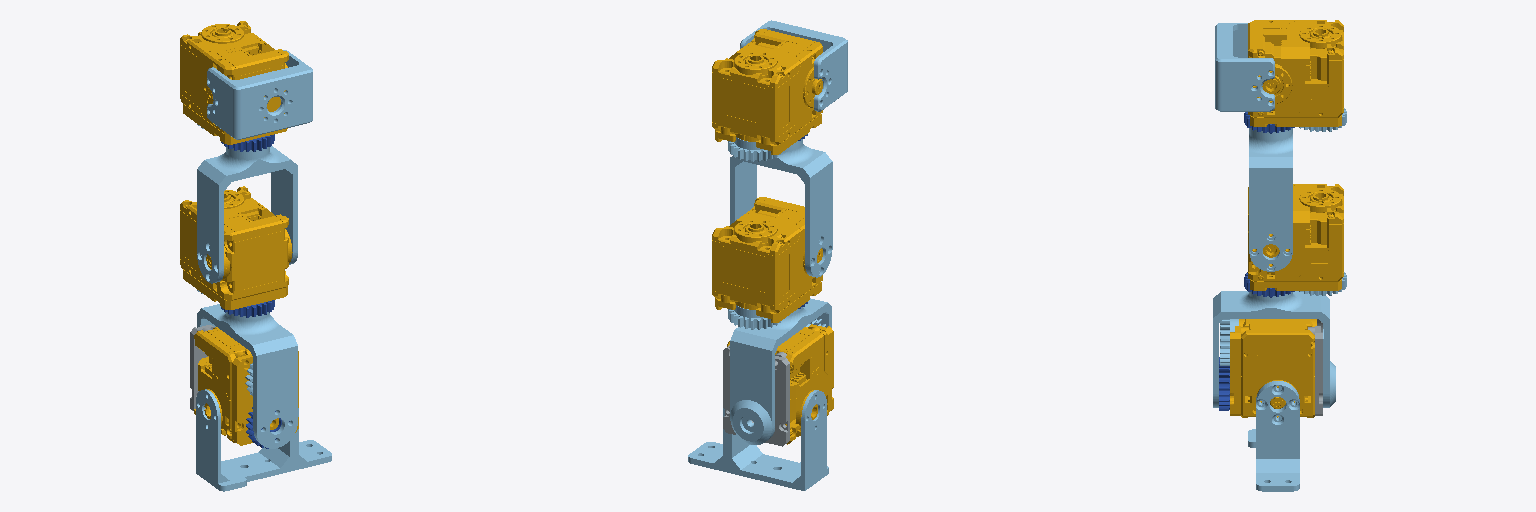
--- Facts derived from the render (not from the file) ---
3 views of the same robot in one strip: view 1: azimuth 30°, elevation 25°; view 2: azimuth 150°, elevation 25°; view 3: azimuth 270°, elevation 25° (orthographic).
Robot: left_arm — 16 links, 15 joints (10 revolute, 5 fixed); root link xc430; default pose: all joints at 0.
Links seen in each view (by area): view 1: 2xl430_gears_2, elb_yaw_link, sho_yaw_link, 2xl430_gears, sho_pitch_link, gripper_connector, 2xl430_gears_3, wrist_bearing_plate; view 2: 2xl430_gears, 2xl430_gears_2, elb_yaw_link, sho_yaw_link, gripper_connector, 2xl430_gears_3, sho_pitch_link, wrist_bearing_plate, spur_1m_24t_drive, spur_1m_24t_drive_2; view 3: 2xl430_gears, 2xl430_gears_3, 2xl430_gears_2, sho_yaw_link, gripper_connector, elb_yaw_link, sho_pitch_link, wrist_bearing_plate, spur_1m_24t_drive_3.
Boxes of the visible links, box(x1,y1,x2,y2) form: 2xl430_gears_2: box(180, 186, 292, 309); elb_yaw_link: box(197, 304, 297, 448); sho_yaw_link: box(197, 146, 297, 283); 2xl430_gears: box(180, 21, 288, 144); sho_pitch_link: box(207, 50, 312, 139); gripper_connector: box(196, 389, 331, 491); 2xl430_gears_3: box(194, 327, 298, 445); wrist_bearing_plate: box(190, 325, 214, 410); 2xl430_gears: box(712, 29, 822, 154); 2xl430_gears_2: box(712, 197, 822, 322); elb_yaw_link: box(730, 298, 831, 444); sho_yaw_link: box(730, 139, 832, 277); gripper_connector: box(688, 390, 828, 490); 2xl430_gears_3: box(727, 324, 833, 444); sho_pitch_link: box(740, 20, 847, 111); wrist_bearing_plate: box(723, 345, 789, 446); spur_1m_24t_drive: box(728, 137, 780, 161); spur_1m_24t_drive_2: box(728, 305, 780, 329); 2xl430_gears: box(1248, 20, 1343, 126); 2xl430_gears_3: box(1230, 319, 1316, 417); 2xl430_gears_2: box(1248, 184, 1343, 290); sho_yaw_link: box(1249, 128, 1292, 271); gripper_connector: box(1248, 381, 1299, 491); elb_yaw_link: box(1213, 291, 1335, 407); sho_pitch_link: box(1215, 23, 1274, 111); wrist_bearing_plate: box(1308, 319, 1322, 415); spur_1m_24t_drive_3: box(1220, 319, 1238, 365).
Size in the robot's own frame: 0.066 by 0.0652 by 0.2252 metres.
Meshes: 16 distinct files referenced, 14 mesh visuals loaded (14 binary STL); not drawn: 2 (reference not matched to a file when rendering).

The robot description file, URDF, robot "left_arm":
<?xml version="1.0" ?><robot name="left_arm">  
  <link name="xc430">    
    <visual>      
      <origin xyz="0 0 0" rpy="0 -0 0"/>      
      <geometry>        
        <mesh filename="package:///meshes/left_xc430_visual.stl"/>        
      </geometry>      
      <material name="xc430_material">        
        <color rgba="0.3960334863748344314 0.50878377002232877402 0.71126755432153676573 1.0"/>        
      </material>      
    </visual>    
    <collision>      
      <origin xyz="0 0 0" rpy="0 -0 0"/>      
      <geometry>        
        <mesh filename="package:///meshes/left_xc430_collision.stl"/>        
      </geometry>      
    </collision>    
    <inertial>      
      <origin xyz="0.007649938948420367639 -0.0056800345415021161882 -0.014255781343936730146" rpy="0 0 0"/>      
      <mass value="0.065021926915724281848"/>      
      <inertia ixx="1.0685477757330408185e-05" ixy="2.4991048730003623443e-08" ixz="-4.3793050176056901397e-09" iyy="1.6030858372951694338e-05" iyz="-9.5846760480286561493e-09" izz="1.8186829094811185627e-05"/>      
    </inertial>    
  </link>  

  <link name="sho_pitch_link">    
    <visual>      
      <origin xyz="0 0 0" rpy="0 -0 0"/>      
      <geometry>        
        <mesh filename="package:///meshes/left_sho_pitch_link_visual.stl"/>        
      </geometry>      
      <material name="sho_pitch_link_material">        
        <color rgba="0.61568627450980395466 0.81176470588235294379 0.92941176470588238168 1.0"/>        
      </material>      
    </visual>    
    <collision>      
      <origin xyz="0 0 0" rpy="0 -0 0"/>      
      <geometry>        
        <mesh filename="package:///meshes/left_sho_pitch_link_collision.stl"/>        
      </geometry>      
    </collision>    
    <inertial>      
      <origin xyz="5.8254248120052071971e-11 -5.1264642561120891203e-05 0.0082440788127094884186" rpy="0 0 0"/>      
      <mass value="0.0054658167229830727923"/>      
      <inertia ixx="7.8001571192438926207e-07" ixy="-1.362001715498003601e-14" ixz="-5.4561052933656508776e-15" iyy="1.8499441886712514344e-06" iyz="4.7427934912491398702e-09" izz="1.9577243674425458058e-06"/>      
    </inertial>    
  </link>  

  <link name="2xl430_gears">    
    <visual>      
      <origin xyz="0 0 0" rpy="0 -0 0"/>      
      <geometry>        
        <mesh filename="package:///meshes/left_2xl430_gears_visual.stl"/>        
      </geometry>      
      <material name="2xl430_gears_material">        
        <color rgba="0.92986371788500021829 0.70481290401000895596 0.1039417481935485249 1.0"/>        
      </material>      
    </visual>    
    <collision>      
      <origin xyz="0 0 0" rpy="0 -0 0"/>      
      <geometry>        
        <mesh filename="package:///meshes/left_2xl430_gears_collision.stl"/>        
      </geometry>      
    </collision>    
    <inertial>      
      <origin xyz="-0.01169099042949864678 -0.0018640254999320031871 -0.018537112917890789104" rpy="0 0 0"/>      
      <mass value="0.10501969455283197141"/>      
      <inertia ixx="2.3730855574653463973e-05" ixy="6.3698299422680390943e-07" ixz="-2.6196591648175582968e-08" iyy="2.9185546824402445624e-05" iyz="-5.7586555809654170624e-07" izz="3.1247581181374436705e-05"/>      
    </inertial>    
  </link>  

  <link name="spur_1m_24t_drive">    
    <visual>      
      <origin xyz="0 0 0" rpy="0 -0 0"/>      
      <geometry>        
        <mesh filename="package:///meshes/left_spur_1m_24t_drive_visual.stl"/>        
      </geometry>      
      <material name="spur_1m_24t_drive_material">        
        <color rgba="0.61568627450980395466 0.81176470588235294379 0.92941176470588238168 1.0"/>        
      </material>      
    </visual>    
    <collision>      
      <origin xyz="0 0 0" rpy="0 -0 0"/>      
      <geometry>        
        <mesh filename="package:///meshes/left_spur_1m_24t_drive_collision.stl"/>        
      </geometry>      
    </collision>    
    <inertial>      
      <origin xyz="-7.7519087863383936372e-15 -1.2153135340684706176e-16 0.0047949116178401442884" rpy="0 0 0"/>      
      <mass value="0.0028390468118397902894"/>      
      <inertia ixx="1.2437980613262772114e-07" ixy="1.4197372144770222767e-15" ixz="-1.5495887109503665114e-37" iyy="1.243798053716646504e-07" iyz="-4.8230046432124436823e-37" izz="2.1149940431738185887e-07"/>      
    </inertial>    
  </link>  

  <joint name="left_sho_yaw_drive" type="revolute">    
    <origin xyz="-0.024000000716149091917 -0.019000000152453261348 -0.019000000152451658464" rpy="1.5707963267948958919 -4.4976359533854379418e-14 2.4607735454933739048e-14"/>    
    <parent link="2xl430_gears"/>    
    <child link="spur_1m_24t_drive"/>    
    <axis xyz="0 0 1"/>    
    <limit effort="1" velocity="20" lower="-3.141592653589793116" upper="3.141592653589793116"/>    
    <joint_properties friction="0.0"/>    
  </joint>  

  <link name="spur_1m_24t_driven">    
    <visual>      
      <origin xyz="0 0 0" rpy="0 -0 0"/>      
      <geometry>        
        <mesh filename="package:///meshes/left_spur_1m_24t_driven_visual.stl"/>        
      </geometry>      
      <material name="spur_1m_24t_driven_material">        
        <color rgba="0.23137254901960788156 0.38039215686274507888 0.7058823529411765163 1.0"/>        
      </material>      
    </visual>    
    <collision>      
      <origin xyz="0 0 0" rpy="0 -0 0"/>      
      <geometry>        
        <mesh filename="package:///meshes/left_spur_1m_24t_driven_collision.stl"/>        
      </geometry>      
    </collision>    
    <inertial>      
      <origin xyz="-4.7580846418343935286e-18 -5.7993764787103834268e-15 -0.00096866348640038679729" rpy="0 0 0"/>      
      <mass value="0.0019107037020329885237"/>      
      <inertia ixx="8.5107987555388190322e-08" ixy="-3.6559376044217627684e-37" ixz="0" iyy="8.5107987555388057973e-08" iyz="0" izz="1.61541204276871012e-07"/>      
    </inertial>    
  </link>  

  <link name="sho_yaw_link">    
    <visual>      
      <origin xyz="0 0 0" rpy="0 -0 0"/>      
      <geometry>        
        <mesh filename="package:///meshes/left_sho_yaw_link_visual.stl"/>        
      </geometry>      
      <material name="sho_yaw_link_material">        
        <color rgba="0.61568627450980395466 0.81176470588235294379 0.92941176470588238168 1.0"/>        
      </material>      
    </visual>    
    <collision>      
      <origin xyz="0 0 0" rpy="0 -0 0"/>      
      <geometry>        
        <mesh filename="package:///meshes/left_sho_yaw_link_collision.stl"/>        
      </geometry>      
    </collision>    
    <inertial>      
      <origin xyz="-1.2954272486096536888e-18 4.6931218992822002367e-18 -0.024214576156328396217" rpy="0 0 0"/>      
      <mass value="0.012515007486099719372"/>      
      <inertia ixx="7.8103015795623802274e-06" ixy="3.1069782961625653339e-13" ixz="0" iyy="4.8995994669684958124e-06" iyz="0" izz="3.8486326781559904804e-06"/>      
    </inertial>    
  </link>  

  <link name="2xl430_gears_2">    
    <visual>      
      <origin xyz="0 0 0" rpy="0 -0 0"/>      
      <geometry>        
        <mesh filename="package:///meshes/left_2xl430_gears_2_visual.stl"/>        
      </geometry>      
      <material name="2xl430_gears_2_material">        
        <color rgba="0.92986371788500021829 0.70481290401000895596 0.1039417481935485249 1.0"/>        
      </material>      
    </visual>    
    <collision>      
      <origin xyz="0 0 0" rpy="0 -0 0"/>      
      <geometry>        
        <mesh filename="package:///meshes/left_2xl430_gears_2_collision.stl"/>        
      </geometry>      
    </collision>    
    <inertial>      
      <origin xyz="-0.011690990429496775013 -0.0018640254999317382081 -0.018537112917886455765" rpy="0 0 0"/>      
      <mass value="0.10501969455283197141"/>      
      <inertia ixx="2.373085557465203757e-05" ixy="6.36982994226230574e-07" ixz="-2.6196591648377547386e-08" iyy="2.9185546824401300436e-05" iyz="-5.7586555809669438393e-07" izz="3.1247581181373433818e-05"/>      
    </inertial>    
  </link>  

  <link name="spur_1m_24t_drive_2">    
    <visual>      
      <origin xyz="0 0 0" rpy="0 -0 0"/>      
      <geometry>        
        <mesh filename="package:///meshes/left_spur_1m_24t_drive_2_visual.stl"/>        
      </geometry>      
      <material name="spur_1m_24t_drive_2_material">        
        <color rgba="0.61568627450980395466 0.81176470588235294379 0.92941176470588238168 1.0"/>        
      </material>      
    </visual>    
    <collision>      
      <origin xyz="0 0 0" rpy="0 -0 0"/>      
      <geometry>        
        <mesh filename="package:///meshes/left_spur_1m_24t_drive_2_collision.stl"/>        
      </geometry>      
    </collision>    
    <inertial>      
      <origin xyz="-7.7519087863383936372e-15 -1.2153135340684745619e-16 0.0047949116178401364821" rpy="0 0 0"/>      
      <mass value="0.0028390468118397902894"/>      
      <inertia ixx="1.2437980613262777408e-07" ixy="1.419737221362293343e-15" ixz="-1.3786460596123746092e-37" iyy="1.2437980537166470334e-07" iyz="-9.9920846415556119903e-38" izz="2.1149940431738196475e-07"/>      
    </inertial>    
  </link>  

  <joint name="left_elbow_yaw_drive" type="revolute">    
    <origin xyz="-0.024000000716143943258 -0.019000000152449458835 -0.019000000152448723312" rpy="1.5707963267948803487 -8.8097374115804582929e-15 1.2391989173894776153e-13"/>    
    <parent link="2xl430_gears_2"/>    
    <child link="spur_1m_24t_drive_2"/>    
    <axis xyz="0 0 1"/>    
    <limit effort="1" velocity="20" lower="-3.141592653589793116" upper="3.141592653589793116"/>    
    <joint_properties friction="0.0"/>    
  </joint>  

  <link name="spur_1m_24t_driven_2">    
    <visual>      
      <origin xyz="0 0 0" rpy="0 -0 0"/>      
      <geometry>        
        <mesh filename="package:///meshes/left_spur_1m_24t_driven_2_visual.stl"/>        
      </geometry>      
      <material name="spur_1m_24t_driven_2_material">        
        <color rgba="0.23137254901960788156 0.38039215686274507888 0.7058823529411765163 1.0"/>        
      </material>      
    </visual>    
    <collision>      
      <origin xyz="0 0 0" rpy="0 -0 0"/>      
      <geometry>        
        <mesh filename="package:///meshes/left_spur_1m_24t_driven_2_collision.stl"/>        
      </geometry>      
    </collision>    
    <inertial>      
      <origin xyz="-4.7580846418342417653e-18 -5.7993764787103826379e-15 -0.00096866348640036251116" rpy="0 0 0"/>      
      <mass value="0.0019107037020329885237"/>      
      <inertia ixx="8.5107987555388216792e-08" ixy="-1.6901296385098867282e-36" ixz="1.7653430435007051828e-36" iyy="8.5107987555388057973e-08" iyz="3.3761471308164658484e-36" izz="1.6154120427687106494e-07"/>      
    </inertial>    
  </link>  

  <link name="elb_yaw_link">    
    <visual>      
      <origin xyz="0 0 0" rpy="0 -0 0"/>      
      <geometry>        
        <mesh filename="package:///meshes/left_elb_yaw_link_visual.stl"/>        
      </geometry>      
      <material name="elb_yaw_link_material">        
        <color rgba="0.61568627450980406568 0.81176470588235294379 0.92941176470588238168 1.0"/>        
      </material>      
    </visual>    
    <collision>      
      <origin xyz="0 0 0" rpy="0 -0 0"/>      
      <geometry>        
        <mesh filename="package:///meshes/left_elb_yaw_link_collision.stl"/>        
      </geometry>      
    </collision>    
    <inertial>      
      <origin xyz="5.2870889172994923869e-08 0.001987355818274245782 -0.023365661199828750144" rpy="0 0 0"/>      
      <mass value="0.014606428020591945977"/>      
      <inertia ixx="1.17667756487469936e-05" ixy="1.4106312007994768316e-12" ixz="-9.3353217587898983128e-12" iyy="5.5393998892419725165e-06" iyz="8.8305528697668242434e-07" izz="7.4785865281022818806e-06"/>      
    </inertial>    
  </link>  

  <link name="spur_1m_24t_driven_3">    
    <visual>      
      <origin xyz="0 0 0" rpy="0 -0 0"/>      
      <geometry>        
        <mesh filename="package:///meshes/left_spur_1m_24t_driven_3_visual.stl"/>        
      </geometry>      
      <material name="spur_1m_24t_driven_3_material">        
        <color rgba="0.23137254901960788156 0.38039215686274507888 0.7058823529411765163 1.0"/>        
      </material>      
    </visual>    
    <collision>      
      <origin xyz="0 0 0" rpy="0 -0 0"/>      
      <geometry>        
        <mesh filename="package:///meshes/left_spur_1m_24t_driven_3_collision.stl"/>        
      </geometry>      
    </collision>    
    <inertial>      
      <origin xyz="-2.5574766353556168795e-17 -5.7993764787103834268e-15 -0.002568663486400384055" rpy="0 0 0"/>      
      <mass value="0.0019107037020329885237"/>      
      <inertia ixx="8.5107987555388190322e-08" ixy="5.7697031649781155731e-39" ixz="-3.0252491959815126819e-37" iyy="8.5107987555388057973e-08" iyz="3.5356000143236472845e-37" izz="1.61541204276871012e-07"/>      
    </inertial>    
  </link>  

  <link name="2xl430_gears_3">    
    <visual>      
      <origin xyz="0 0 0" rpy="0 -0 0"/>      
      <geometry>        
        <mesh filename="package:///meshes/left_2xl430_gears_3_visual.stl"/>        
      </geometry>      
      <material name="2xl430_gears_3_material">        
        <color rgba="0.92986371788500021829 0.70481290401000895596 0.1039417481935485249 1.0"/>        
      </material>      
    </visual>    
    <collision>      
      <origin xyz="0 0 0" rpy="0 -0 0"/>      
      <geometry>        
        <mesh filename="package:///meshes/left_2xl430_gears_3_collision.stl"/>        
      </geometry>      
    </collision>    
    <inertial>      
      <origin xyz="0.00046288708211645056322 0.011690990071419760793 -0.025135974652516782091" rpy="0 0 0"/>      
      <mass value="0.10501969455283197141"/>      
      <inertia ixx="3.1247581181373250859e-05" ixy="2.6196591650102477044e-08" ixz="5.7586555809730191831e-07" iyy="2.3730855574652068063e-05" iyz="6.36982994228104105e-07" izz="2.9185546824400209457e-05"/>      
    </inertial>    
  </link>  

  <link name="spur_1m_24t_drive_3">    
    <visual>      
      <origin xyz="0 0 0" rpy="0 -0 0"/>      
      <geometry>        
        <mesh filename="package:///meshes/left_spur_1m_24t_drive_3_visual.stl"/>        
      </geometry>      
      <material name="spur_1m_24t_drive_3_material">        
        <color rgba="0.61568627450980395466 0.81176470588235294379 0.92941176470588238168 1.0"/>        
      </material>      
    </visual>    
    <collision>      
      <origin xyz="0 0 0" rpy="0 -0 0"/>      
      <geometry>        
        <mesh filename="package:///meshes/left_spur_1m_24t_drive_3_collision.stl"/>        
      </geometry>      
    </collision>    
    <inertial>      
      <origin xyz="-7.7519087863383936372e-15 -1.2153135340684745619e-16 0.0047949116178401408189" rpy="0 0 0"/>      
      <mass value="0.0028390468118397902894"/>      
      <inertia ixx="1.2437980613262772114e-07" ixy="1.4197372228685881373e-15" ixz="-5.0969005492588067135e-36" iyy="1.2437980537166467687e-07" iyz="1.1616087853964260718e-36" izz="2.1149940431738185887e-07"/>      
    </inertial>    
  </link>  

  <joint name="left_wrist_pitch_drive" type="revolute">    
    <origin xyz="-1.5244679043430187093e-10 0.024000000358067236084 -0.0080000000000028867464" rpy="-2.7483519458837874956e-17 4.1567008429808215919e-16 -1.5707963267950932895"/>    
    <parent link="2xl430_gears_3"/>    
    <child link="spur_1m_24t_drive_3"/>    
    <axis xyz="0 0 1"/>    
    <limit effort="1" velocity="20" lower="-1.570796326794896558" upper="1.570796326794896558"/>    
    <joint_properties friction="0.0"/>    
  </joint>  

  <link name="wrist_bearing_plate">    
    <visual>      
      <origin xyz="0 0 0" rpy="0 -0 0"/>      
      <geometry>        
        <mesh filename="package:///meshes/left_wrist_bearing_plate_visual.stl"/>        
      </geometry>      
      <material name="wrist_bearing_plate_material">        
        <color rgba="0.64524122402591754799 0.68440476750126189032 0.7077786319257823866 1.0"/>        
      </material>      
    </visual>    
    <collision>      
      <origin xyz="0 0 0" rpy="0 -0 0"/>      
      <geometry>        
        <mesh filename="package:///meshes/left_wrist_bearing_plate_collision.stl"/>        
      </geometry>      
    </collision>    
    <inertial>      
      <origin xyz="-0.0077108207619254994294 -0.015499999999999986011 -0.001856060779943109534" rpy="0 0 0"/>      
      <mass value="0.0056496574836909499093"/>      
      <inertia ixx="5.9171079900928515775e-07" ixy="6.2097736507831445947e-23" ixz="1.8301204254972737854e-08" iyy="8.216220249489035397e-07" iyz="1.1608938254982709686e-23" izz="1.3935387964192944345e-06"/>      
    </inertial>    
  </link>  

  <joint name="left_wrist_roll_fixed" type="fixed">    
    <origin xyz="0.015500000000005634271 -4.4964032497318839887e-15 -0.044999999999999221179" rpy="-1.5321077739861447308e-14 -1.7302825838780371196e-13 -1.5707963267946343233"/>    
    <parent link="2xl430_gears_3"/>    
    <child link="wrist_bearing_plate"/>    
    <axis xyz="0 0 1"/>    
    <limit effort="1" velocity="20"/>    
    <joint_properties friction="0.0"/>    
  </joint>  

  <link name="gripper_connector">    
    <visual>      
      <origin xyz="0 0 0" rpy="0 -0 0"/>      
      <geometry>        
        <mesh filename="package:///meshes/left_gripper_connector_visual.stl"/>        
      </geometry>      
      <material name="gripper_connector_material">        
        <color rgba="0.61568627450980395466 0.81176470588235283277 0.92941176470588238168 1.0"/>        
      </material>      
    </visual>    
    <collision>      
      <origin xyz="0 0 0" rpy="0 -0 0"/>      
      <geometry>        
        <mesh filename="package:///meshes/left_gripper_connector_collision.stl"/>        
      </geometry>      
    </collision>    
    <inertial>      
      <origin xyz="-0.00020299682521053772602 -0.023971521766976134488 -0.0085969861498480203144" rpy="0 0 0"/>      
      <mass value="0.010749847783550764077"/>      
      <inertia ixx="5.6975779571583543608e-06" ixy="-2.5156189499996475804e-08" ixz="-5.172378807037867625e-08" iyy="4.1113818885763115619e-06" iyz="2.0765009312234069726e-08" izz="2.4319826940967949828e-06"/>      
    </inertial>    
  </link>  

  <link name="gripper">    
    <visual>      
      <origin xyz="0 0 0" rpy="0 -0 0"/>      
      <geometry>        
        <mesh filename="package:///meshes/left_gripper_visual.stl"/>        
      </geometry>      
      <material name="gripper_material">        
        <color rgba="0.6457630783199683755 0.73322359874460429907 0.76035515688353960684 1.0"/>        
      </material>      
    </visual>    
    <collision>      
      <origin xyz="0 0 0" rpy="0 -0 0"/>      
      <geometry>        
        <mesh filename="package:///meshes/left_gripper_collision.stl"/>        
      </geometry>      
    </collision>    
    <inertial>      
      <origin xyz="0.00515417891931551405 0.002776236535944844562 -0.0064249550239260291157" rpy="0 0 0"/>      
      <mass value="0.08131732839378616462"/>      
      <inertia ixx="4.3304520380580929068e-05" ixy="4.8646698778636967135e-06" ixz="1.8050387215175781258e-05" iyy="0.00011082035907674373442" iyz="-4.2102691126519959104e-06" izz="9.1484178053678687453e-05"/>      
    </inertial>    
  </link>  

  <joint name="left_gripper" type="fixed">    
    <origin xyz="-2.0816681711721685133e-17 -0.037000000000000060618 -0.036000000000000004219" rpy="-1.570796326794896558 -1.570796326794896558 0"/>    
    <parent link="gripper_connector"/>    
    <child link="gripper"/>    
    <axis xyz="0 0 1"/>    
    <limit effort="1" velocity="20"/>    
    <joint_properties friction="0.0"/>    
  </joint>  

  <joint name="left_wrist_roll" type="revolute">    
    <origin xyz="0.019000000000000946687 -3.5807279363808675043e-10 -0.027000000152449934315" rpy="2.2204460492518493875e-16 1.5707963267947431252 0"/>    
    <parent link="2xl430_gears_3"/>    
    <child link="gripper_connector"/>    
    <axis xyz="0 0 1"/>    
    <limit effort="1" velocity="20" lower="-1.570796326794896558" upper="1.570796326794896558"/>    
    <joint_properties friction="0.0"/>    
  </joint>  

  <joint name="left_wrist_pitch_driven" type="revolute">    
    <origin xyz="8.3266726846886740532e-17 -9.0205620750793968909e-17 -0.0016000000000000319522" rpy="-5.8286708792805808901e-16 5.5511151231420603539e-17 -1.570796326794896558"/>    
    <parent link="spur_1m_24t_driven_3"/>    
    <child link="2xl430_gears_3"/>    
    <axis xyz="0 0 1"/>    
    <limit effort="1" velocity="20" lower="-1.570796326794896558" upper="1.570796326794896558"/>    
    <joint_properties friction="0.0"/>    
  </joint>  

  <joint name="left_wrist_pitch_fixed" type="fixed">    
    <origin xyz="2.6020852139652106416e-18 -0.025299999999999975286 -0.052000000000000073941" rpy="1.570796326794896558 -1.570796326794896558 0"/>    
    <parent link="elb_yaw_link"/>    
    <child link="spur_1m_24t_driven_3"/>    
    <axis xyz="0 0 1"/>    
    <limit effort="1" velocity="20"/>    
    <joint_properties friction="0.0"/>    
  </joint>  

  <joint name="left_elbow_yaw_fixed" type="fixed">    
    <origin xyz="0 4.336808689942017736e-18 0.0015999999999999625633" rpy="3.141592653589793116 -2.7755575615638071693e-17 -1.570796326794896558"/>    
    <parent link="spur_1m_24t_driven_2"/>    
    <child link="elb_yaw_link"/>    
    <axis xyz="0 0 1"/>    
    <limit effort="1" velocity="20"/>    
    <joint_properties friction="0.0"/>    
  </joint>  

  <joint name="left_elbow_yaw_driven" type="revolute">    
    <origin xyz="-3.5807171117063774091e-10 -0.02700000015244839735 -0.019000000000001713435" rpy="1.5707963267949496267 -7.3274719625257223556e-15 2.0539125955574310126e-15"/>    
    <parent link="2xl430_gears_2"/>    
    <child link="spur_1m_24t_driven_2"/>    
    <axis xyz="0 0 1"/>    
    <limit effort="1" velocity="20" lower="-3.141592653589793116" upper="3.141592653589793116"/>    
    <joint_properties friction="0.0"/>    
  </joint>  

  <joint name="left_elbow_roll" type="revolute">    
    <origin xyz="-2.0816681711721685133e-17 -0.019000000000000332595 -0.058999999999999955258" rpy="1.570796326794896558 2.3770770070187202115e-16 1.6653345369375180711e-15"/>    
    <parent link="sho_yaw_link"/>    
    <child link="2xl430_gears_2"/>    
    <axis xyz="0 0 1"/>    
    <limit effort="1" velocity="20" lower="-1.570796326794896558" upper="1.570796326794896558"/>    
    <joint_properties friction="0.0"/>    
  </joint>  

  <joint name="left_sho_yaw_fixed" type="fixed">    
    <origin xyz="0 0 0.0015999999999999972577" rpy="-3.1415926535897926719 2.5818166553570186493e-16 2.2203585271973257171e-29"/>    
    <parent link="spur_1m_24t_driven"/>    
    <child link="sho_yaw_link"/>    
    <axis xyz="0 0 1"/>    
    <limit effort="1" velocity="20"/>    
    <joint_properties friction="0.0"/>    
  </joint>  

  <joint name="left_sho_yaw_driven" type="revolute">    
    <origin xyz="-3.5807542347887633127e-10 -0.027000000152448758173 -0.01900000000000607106" rpy="1.5707963267949391906 1.9206858326011355353e-14 -7.0419123741435993116e-14"/>    
    <parent link="2xl430_gears"/>    
    <child link="spur_1m_24t_driven"/>    
    <axis xyz="0 0 1"/>    
    <limit effort="1" velocity="20" lower="-3.141592653589793116" upper="3.141592653589793116"/>    
    <joint_properties friction="0.0"/>    
  </joint>  

  <joint name="left_sho_roll" type="revolute">    
    <origin xyz="-0.018999999999999975242 0.0010000000000000217049 0.027000000000000023981" rpy="-3.141592653589793116 1.5707963267948961139 0"/>    
    <parent link="sho_pitch_link"/>    
    <child link="2xl430_gears"/>    
    <axis xyz="0 0 1"/>    
    <limit effort="1" velocity="20" lower="-1.570796326794896558" upper="1.570796326794896558"/>    
    <joint_properties friction="0.0"/>    
  </joint>  

  <joint name="left_sho_pitch" type="revolute">    
    <origin xyz="-0.0039999999999985160273 0.012999999999999725317 -0.01424999999999848263" rpy="-1.5707963267948332753 -5.5178084323870191707e-14 -1.1649761152065636686e-13"/>    
    <parent link="xc430"/>    
    <child link="sho_pitch_link"/>    
    <axis xyz="0 0 1"/>    
    <limit effort="1" velocity="20" lower="-1.570796326794896558" upper="1.570796326794896558"/>    
    <joint_properties friction="0.0"/>    
  </joint>  


</robot>
